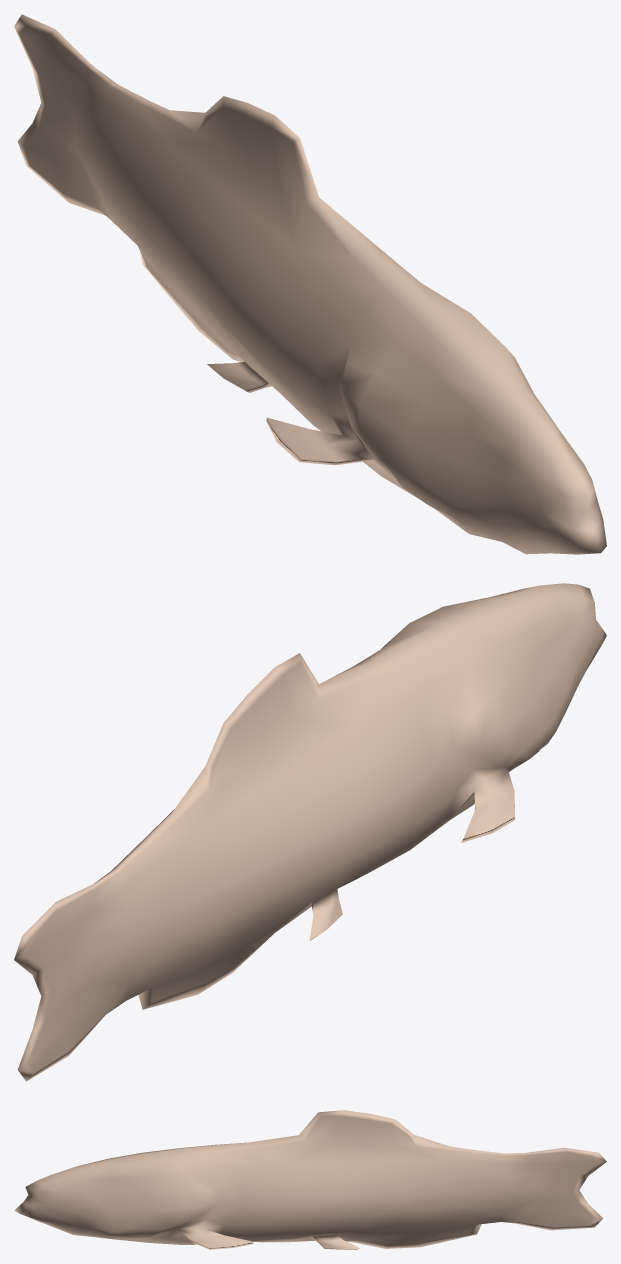
File: Herring.fbx
3 views of the same model, one above another, from view 1: azimuth 30°, elevation 25°; view 2: azimuth 150°, elevation 25°; view 3: azimuth 270°, elevation 25° (orthographic). The views are drawn at different scales.
Parts seen in each view (by area): view 1: BigFish:fish; view 2: BigFish:fish; view 3: BigFish:fish.
Part boxes in pixels (x1,y1,x2,y2): BigFish:fish: [14, 14, 606, 554]; BigFish:fish: [14, 583, 606, 1081]; BigFish:fish: [14, 1110, 606, 1249].
Size of the model in its own units: 3.2 by 3.9 by 15.09.
